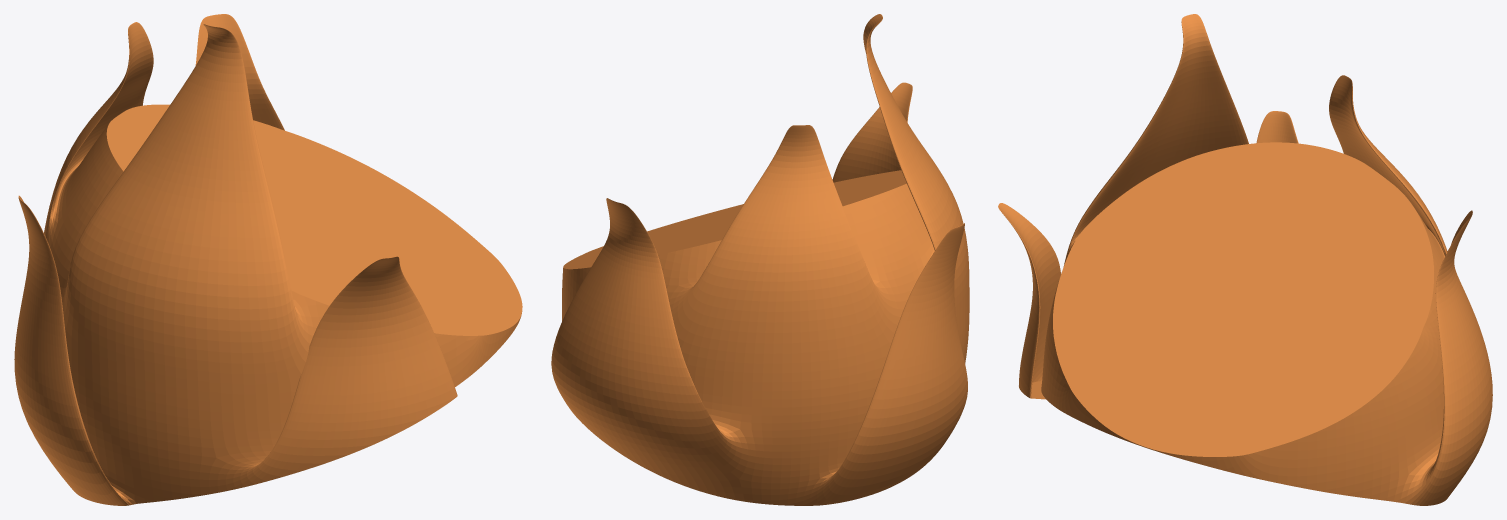
Rendered from dragonfruit_part_2.fbx.
3 views of the same model, side by side, from view 1: azimuth 30°, elevation 25°; view 2: azimuth 150°, elevation 25°; view 3: azimuth 270°, elevation 25° (orthographic). The views are drawn at different scales.
Visible parts, largest first — view 1: Sphere.001; view 2: Sphere.001; view 3: Sphere.001.
Boxes of the visible parts, x1,y1,x2,y2 form: Sphere.001: (14,14,522,505); Sphere.001: (551,14,969,505); Sphere.001: (998,14,1492,505).
Size of the model in its own units: 181 by 186 by 187.
